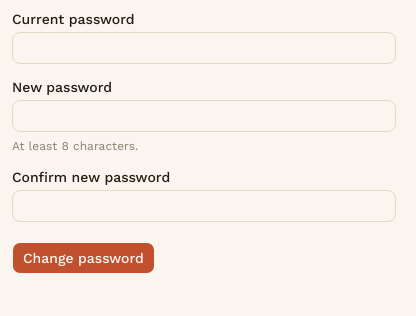
<PasswordForm /> — validation and submission › catches a confirm-password mismatch before submitting
In the password field labelled "Current password": (204, 48) x1=12 y1=32 x2=396 y2=64, type "OldPassw0rd!"
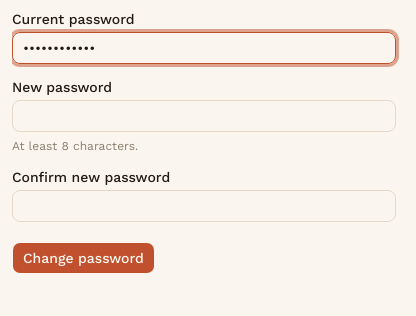
In the password field labelled "New password": (204, 116) x1=12 y1=100 x2=396 y2=132, type "NewPassw0rd!"
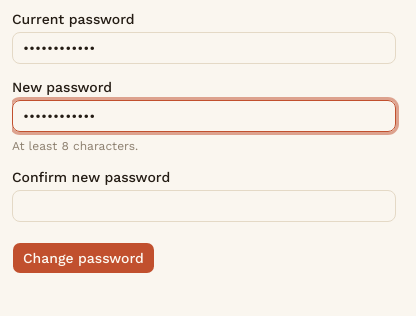
In the password field labelled "Confirm new password": (204, 206) x1=12 y1=190 x2=396 y2=222, type "SomethingElse1!"
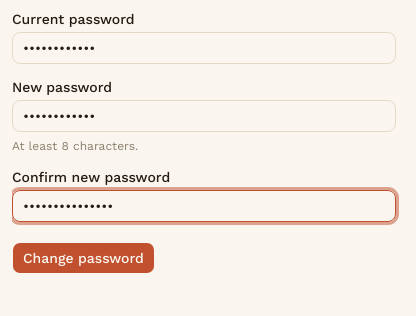
Click the button "Change password": (83, 258) x1=12 y1=242 x2=155 y2=274
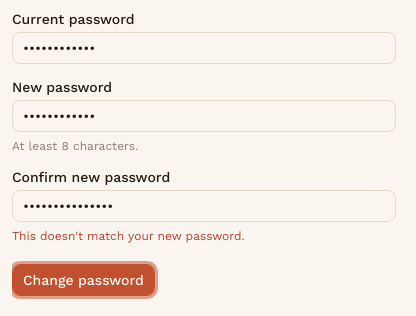
Check: the text "This doesn't match your new password." is shown, box x1=12 y1=229 x2=245 y2=243
